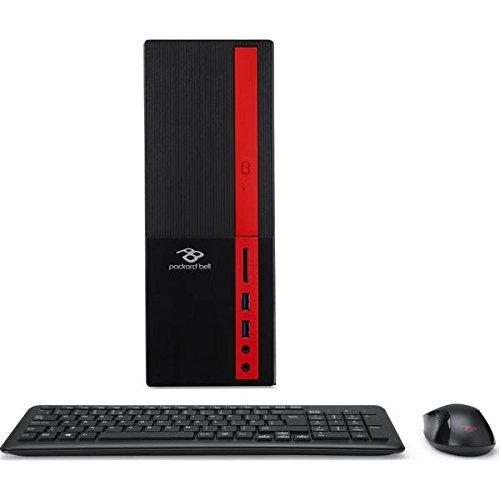Teclado: (2, 402, 407, 462)
